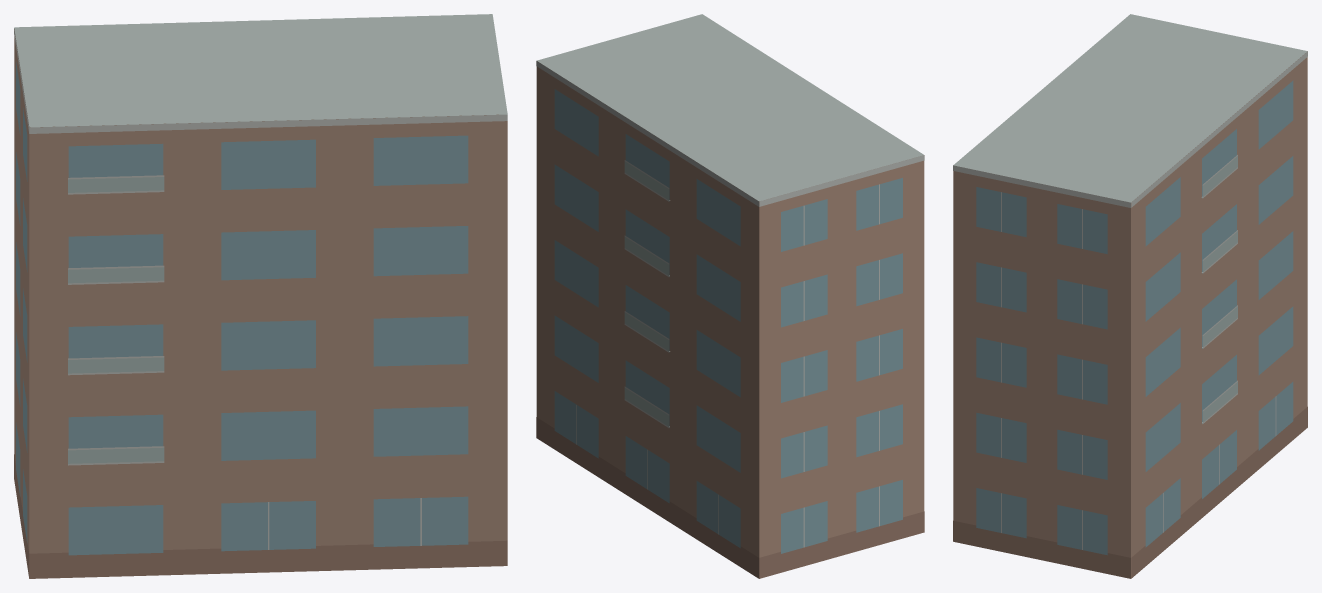
File: survey-upis-32890125.glb
3 views of the same model, side by side, from view 1: azimuth 30°, elevation 25°; view 2: azimuth 150°, elevation 25°; view 3: azimuth 270°, elevation 25° (orthographic). The views are drawn at different scales.
Visible parts, largest first — view 1: survey-upis-32890125.tmp; view 2: survey-upis-32890125.tmp; view 3: survey-upis-32890125.tmp.
Boxes of the visible parts, box(x1,y1,x2,y2) form: survey-upis-32890125.tmp: box(14, 14, 507, 578); survey-upis-32890125.tmp: box(536, 14, 924, 578); survey-upis-32890125.tmp: box(953, 14, 1307, 578).
Bounding box in the file's own units: 17.96 × 16.7 × 14.28.
